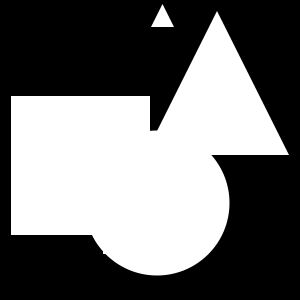circle: (11, 96, 150, 235), (103, 167, 190, 254)
rectangle: (84, 130, 230, 276)
triangle: (145, 11, 289, 155), (151, 4, 174, 27)
